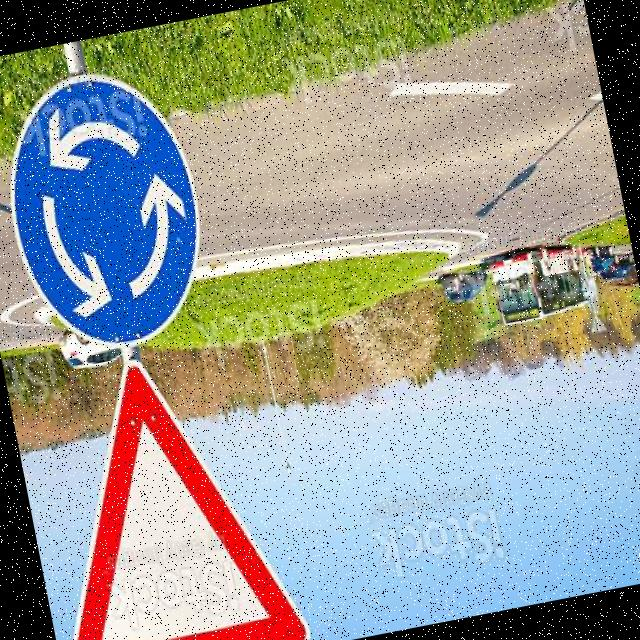round_about: (0, 56, 225, 362)
